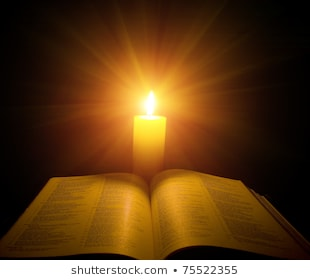Fire: (141, 88, 157, 116)
